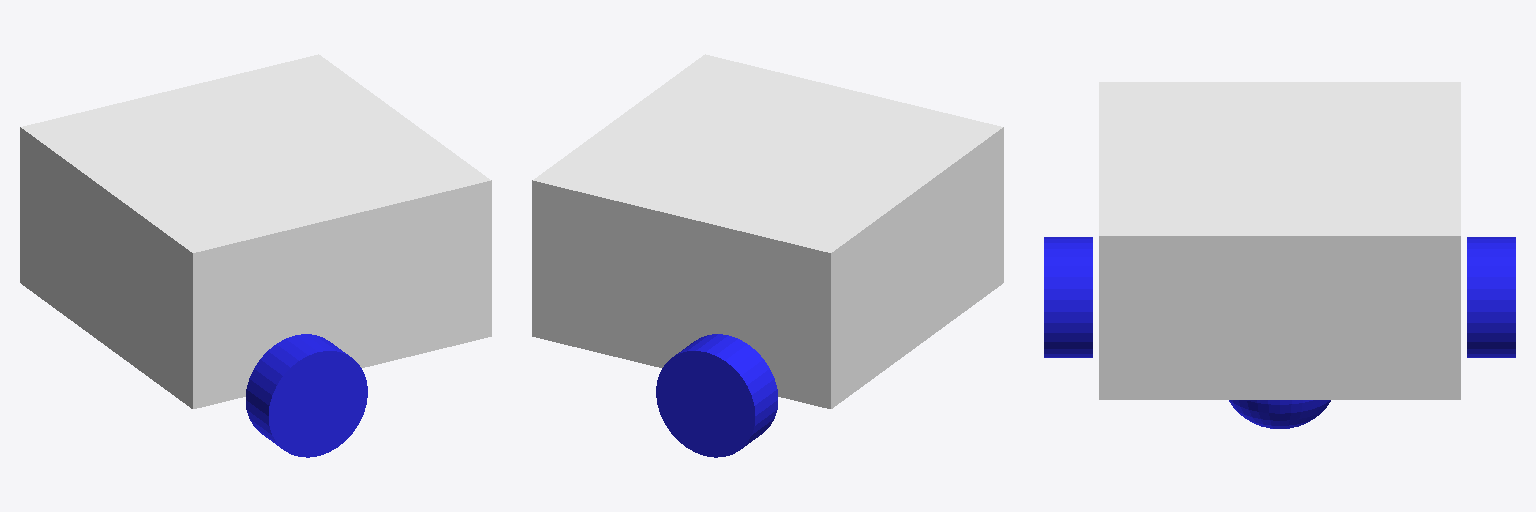
The robot description file, URDF, robot "roboto":
<?xml version="1.0" ?>
<!-- =================================================================================== -->
<!-- |    This document was autogenerated by xacro from roboto.urdf.xacro              | -->
<!-- |    EDITING THIS FILE BY HAND IS NOT RECOMMENDED                                 | -->
<!-- =================================================================================== -->
<robot name="roboto">
  <!-- Specify some standard inertial calculations https://en.wikipedia.org/wiki/List_of_moments_of_inertia -->
  <!-- These make use of xacro's mathematical functionality -->
  <material name="blue">
    <color rgba="0.2 0.2 1 1"/>
  </material>
  <material name="white">
    <color rgba="1 1 1 1"/>
  </material>
  <!-- BASE LINK -->
  <link name="base_link">
<gazebo reference="base_link">
    <preserveFixedJoint>true</preserveFixedJoint>
</gazebo>
        
    </link>
  <!-- CHASSIS LINK -->
  <joint name="chassis_joint" type="fixed">
<gazebo reference="chassis_joint">
    <preserveFixedJoint>true</preserveFixedJoint>
</gazebo>
    <parent link="base_link"/>
    <child link="chassis"/>
    <origin xyz="-0.1 0.0 0.0"/>
  </joint>
  <link name="chassis">
    <visual>
      <origin xyz="0.15 0.0 0.075"/>
      <geometry>
        <box size="0.3 0.3 0.15"/>
      </geometry>
      <material name="white">
                
            </material>
    </visual>
    <collision>
      <origin xyz="0.15 0.0 0.075"/>
      <geometry>
        <box size="0.3 0.3 0.15"/>
      </geometry>
    </collision>
    <inertial>
      <origin rpy="0.0 0.0 0.0" xyz="0.15 0.0 0.075"/>
      <mass value="0.5"/>
      <inertia ixx="0.004687499999999999" ixy="0.0" ixz="0.0" iyy="0.004687499999999999" iyz="0.0" izz="0.0075"/>
    </inertial>
  </link>
  <!-- WHEEL LINKS -->
  <joint name="left_wheel_joint" type="continuous">
    <parent link="base_link"/>
    <child link="left_wheel"/>
    <origin rpy="-1.5707963267948966 0.0 0.0" xyz="0 0.175 0.0"/>
    <axis xyz="0 0 1"/>
  </joint>
  <link name="left_wheel">
    <visual>
      <geometry>
        <cylinder length="0.04" radius="0.05"/>
      </geometry>
      <material name="blue"/>
    </visual>
    <collision>
      <geometry>
        <cylinder length="0.04" radius="0.05"/>
      </geometry>
    </collision>
    <inertial>
      <origin rpy="0.0 0.0 0.0" xyz="0.0 0.0 0.0"/>
      <mass value="0.1"/>
      <inertia ixx="7.583333333333335e-05" ixy="0.0" ixz="0.0" iyy="7.583333333333335e-05" iyz="0.0" izz="0.00012500000000000003"/>
    </inertial>
  </link>
  <joint name="right_wheel_joint" type="continuous">
    <parent link="base_link"/>
    <child link="right_wheel"/>
    <origin rpy="1.5707963267948966 0.0 0.0" xyz="0 -0.175 0.0"/>
    <axis xyz="0 0 -1"/>
  </joint>
  <link name="right_wheel">
    <visual>
      <geometry>
        <cylinder length="0.04" radius="0.05"/>
      </geometry>
      <material name="blue"/>
    </visual>
    <collision>
      <geometry>
        <cylinder length="0.04" radius="0.05"/>
      </geometry>
    </collision>
    <inertial>
      <origin rpy="0.0 0.0 0.0" xyz="0.0 0.0 0.0"/>
      <mass value="0.1"/>
      <inertia ixx="7.583333333333335e-05" ixy="0.0" ixz="0.0" iyy="7.583333333333335e-05" iyz="0.0" izz="0.00012500000000000003"/>
    </inertial>
  </link>
  <!-- CASTER WHEEL LINK -->
  <joint name="caster_wheel_joint" type="fixed">
<gazebo reference="imucaster_wheel_joint">
    <preserveFixedJoint>true</preserveFixedJoint>
</gazebo>
    <parent link="chassis"/>
    <child link="caster_wheel"/>
    <origin xyz="0.24 0.0 0.0"/>
  </joint>
  <link name="caster_wheel">
    <visual>
      <geometry>
        <sphere radius="0.05"/>
      </geometry>
      <material name="blue"/>
    </visual>
    <collision>
      <geometry>
        <sphere radius="0.05"/>
      </geometry>
    </collision>
    <inertial>
      <origin rpy="0.0 0.0 0.0" xyz="0.0 0.0 0.0"/>
      <mass value="0.1"/>
      <inertia ixx="0.00010000000000000005" ixy="0.0" ixz="0.0" iyy="0.00010000000000000005" iyz="0.0" izz="0.00010000000000000005"/>
    </inertial>
  </link>
  <plugin filename="gz-sim-diff-drive-system" name="gz::sim::systems::DiffDrive">
    <left_joint>left_wheel_joint</left_joint>
    <right_joint>right_wheel_joint</right_joint>
    <wheel_separation>0.35</wheel_separation>
    <wheel_radius>0.05</wheel_radius>
    <max_acceleration>10.0</max_acceleration>
  </plugin>
</robot>

--- What the picture shows (computed from the rendered views, not written in the file) ---
3 views of the same robot in one strip: view 1: azimuth 30°, elevation 25°; view 2: azimuth 150°, elevation 25°; view 3: azimuth 270°, elevation 25° (orthographic).
Robot: roboto — 5 links, 4 joints (2 continuous, 2 fixed); root link base_link; default pose: every joint at zero.
Visible links, largest first — view 1: chassis, right_wheel; view 2: chassis, left_wheel; view 3: chassis, left_wheel, right_wheel, caster_wheel.
Link boxes in pixels (bbox=[...]): chassis: bbox=[20, 54, 491, 408]; right_wheel: bbox=[246, 334, 367, 457]; chassis: bbox=[532, 54, 1003, 408]; left_wheel: bbox=[656, 334, 777, 457]; chassis: bbox=[1099, 82, 1460, 399]; left_wheel: bbox=[1467, 237, 1515, 357]; right_wheel: bbox=[1044, 237, 1092, 357]; caster_wheel: bbox=[1229, 400, 1330, 428].
Size in the robot's own frame: 0.3 by 0.39 by 0.2 metres.
Geometry: primitives only (box / cylinder / sphere), no mesh files.